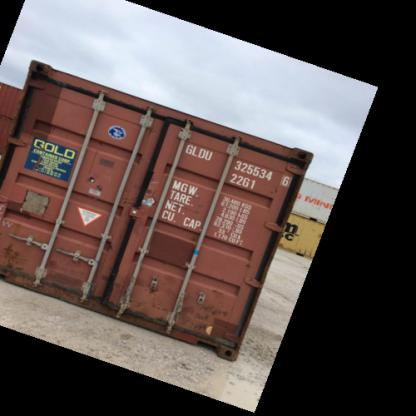Damage: (176, 289, 228, 335), (93, 262, 139, 306), (0, 229, 32, 282), (46, 254, 95, 286), (136, 170, 172, 212), (78, 165, 110, 194)
